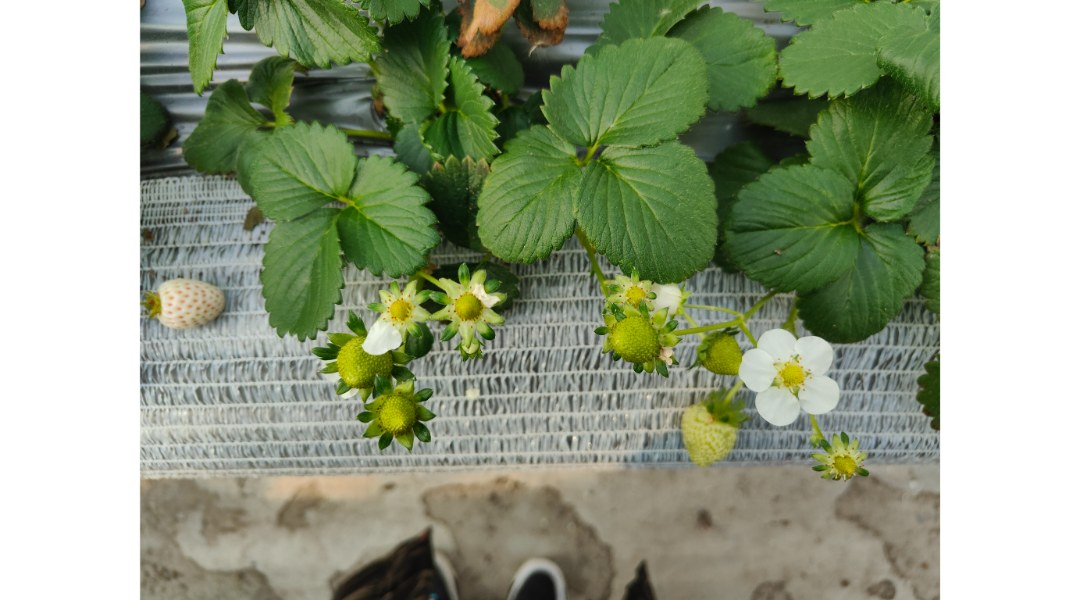berry: (313, 318, 395, 396), (599, 300, 676, 378), (678, 394, 744, 468), (360, 389, 439, 441), (694, 327, 742, 380), (614, 268, 659, 310)
flower: (735, 326, 846, 430), (433, 265, 509, 341), (367, 278, 433, 360)
strain: (746, 289, 779, 312)
